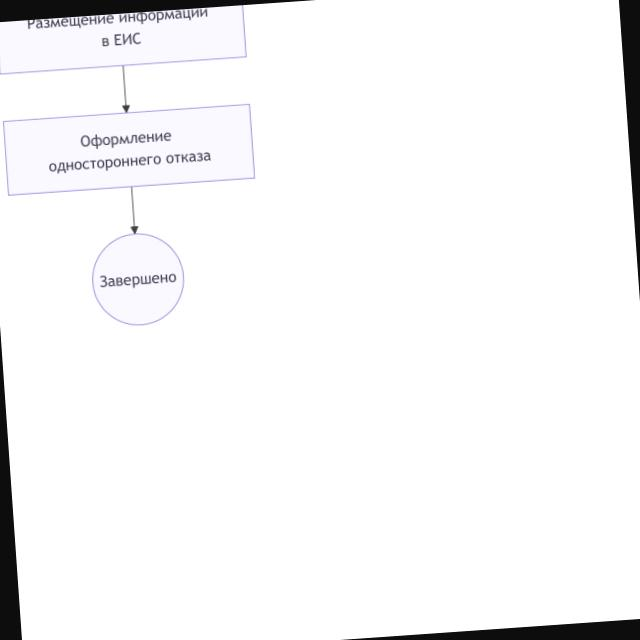arrow: (122, 66, 130, 112), (131, 188, 138, 233)
circle: (93, 233, 184, 325)
rectangle: (4, 104, 254, 195)
